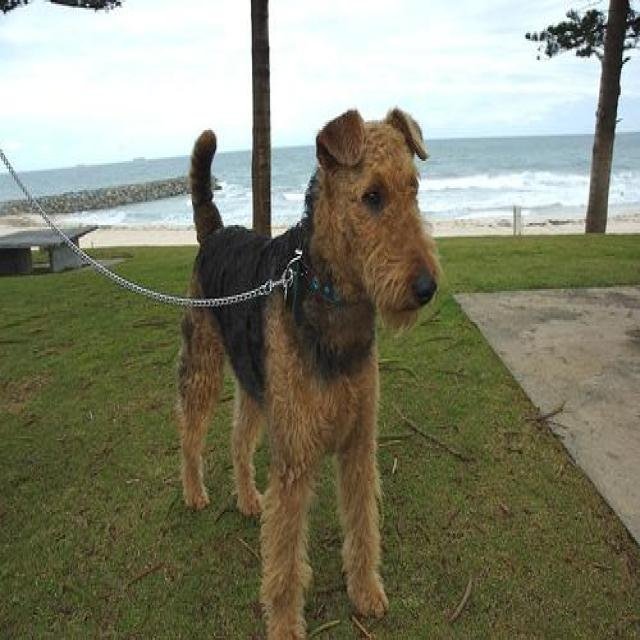airedale: (173, 103, 444, 638)
